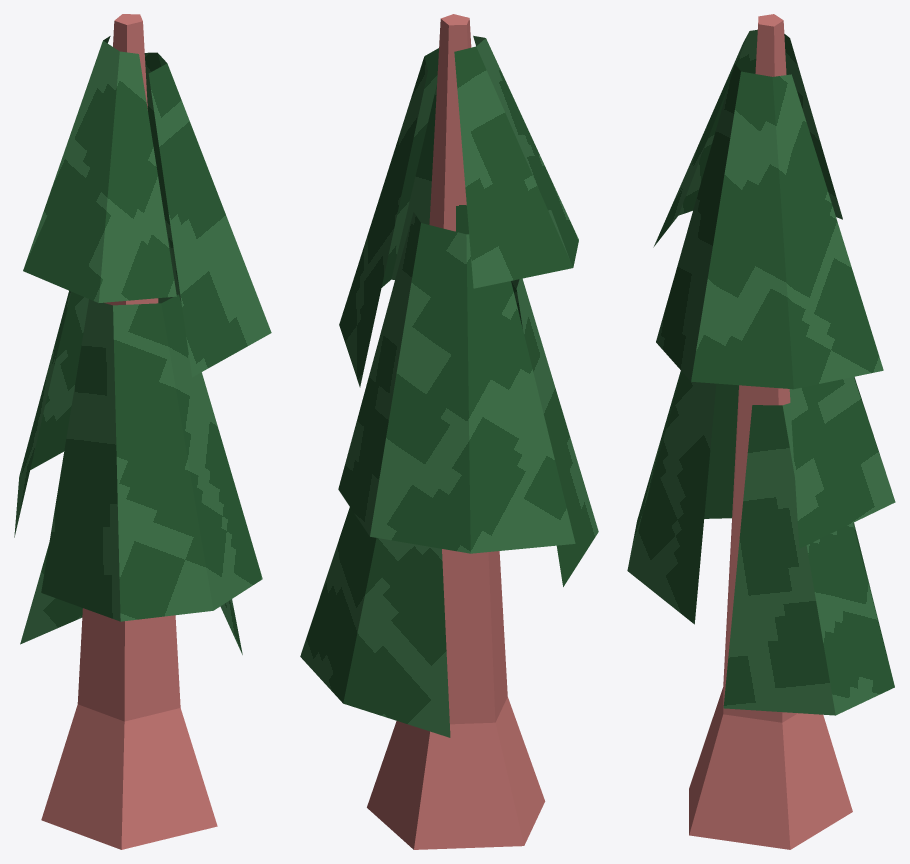
Rendered from TreeLOD1Merged.gltf.
The picture shows the model from 3 angles, left to right: view 1: azimuth 30°, elevation 25°; view 2: azimuth 150°, elevation 25°; view 3: azimuth 270°, elevation 25°; orthographic projection.
Parts seen in each view (by area): view 1: Tree; view 2: Tree; view 3: Tree.
Part boxes in pixels (x1=…): Tree: x1=14, y1=14, x2=271, y2=849; Tree: x1=300, y1=14, x2=598, y2=849; Tree: x1=627, y1=14, x2=895, y2=849.
Size of the model in its own units: 1.42 by 4.5 by 1.38.
Materials: 1 (1 with a texture image).
